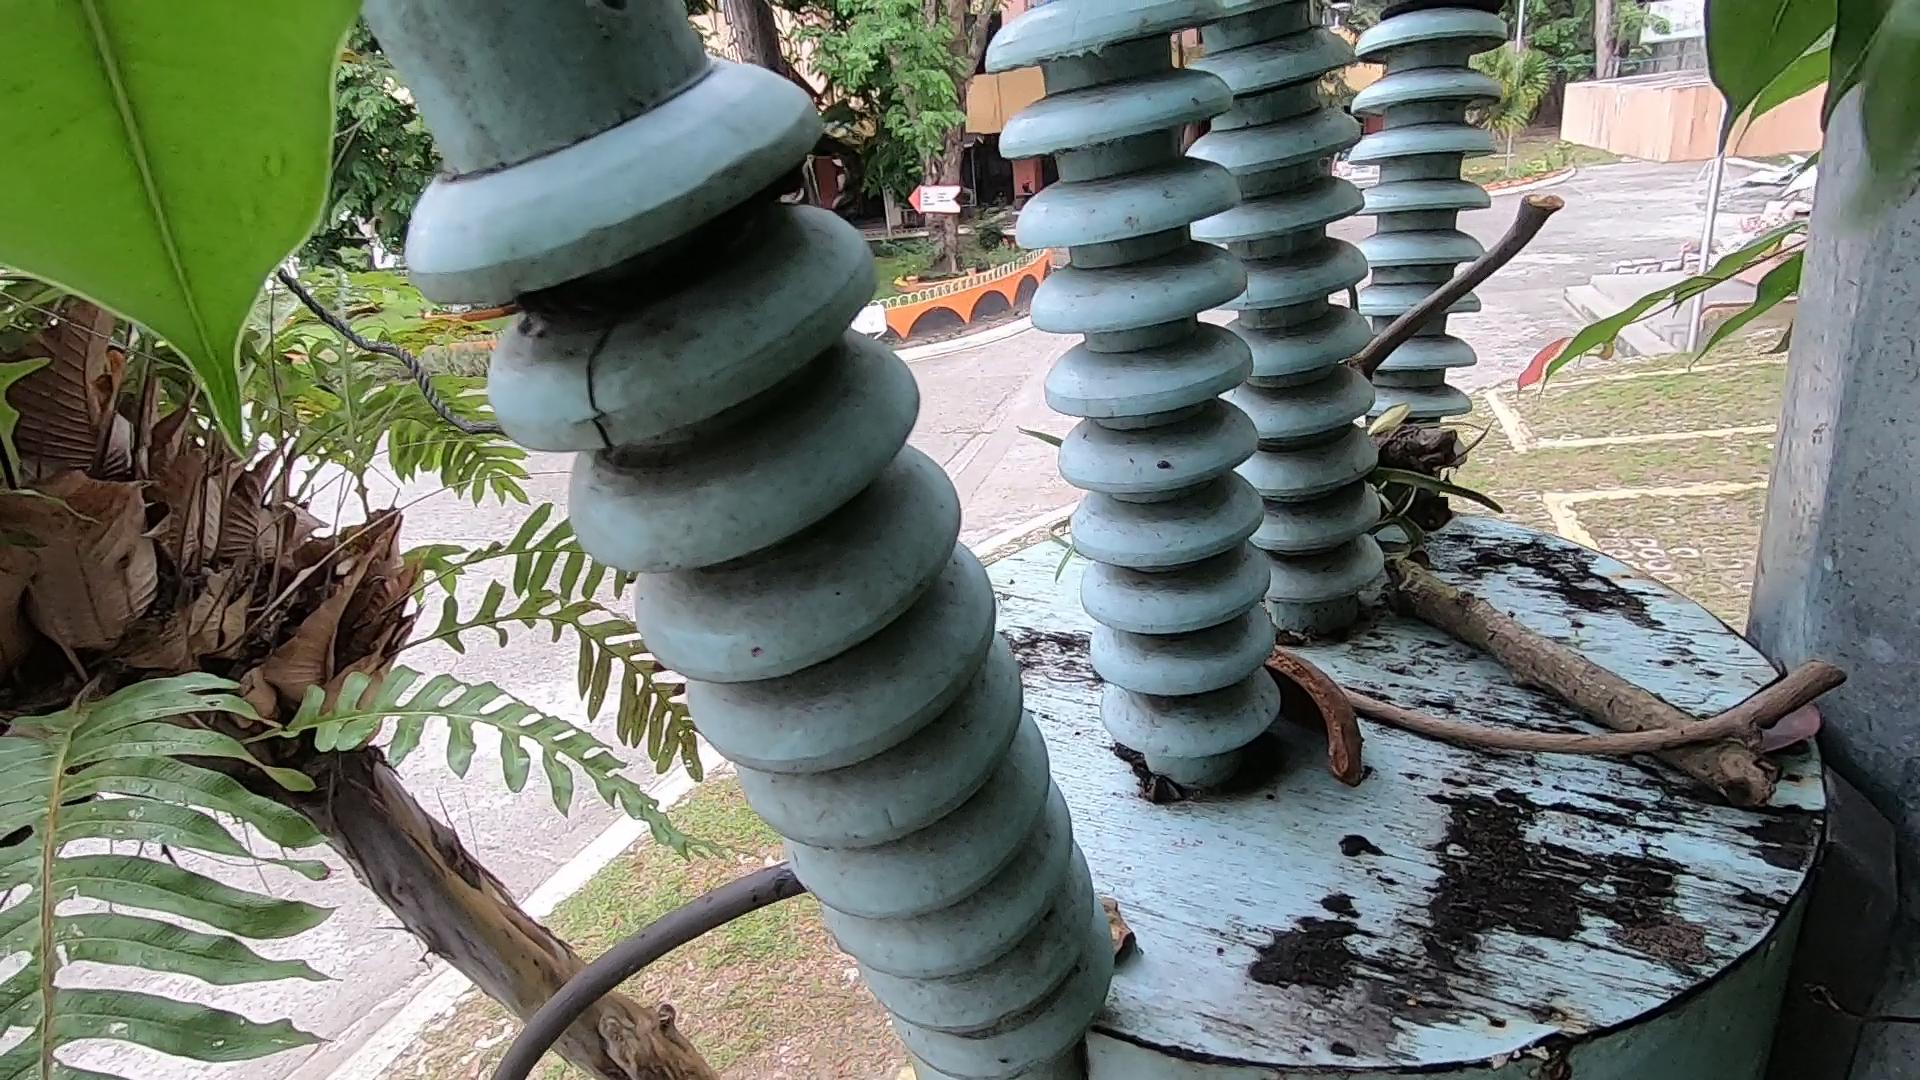branch with leaves: (1371, 398, 1791, 828)
leaf: (1060, 847, 1189, 1015), (1733, 661, 1859, 819)
mahogany fruit: (1262, 636, 1379, 836)
tree branch: (1274, 649, 1920, 793), (1323, 157, 1575, 417)
